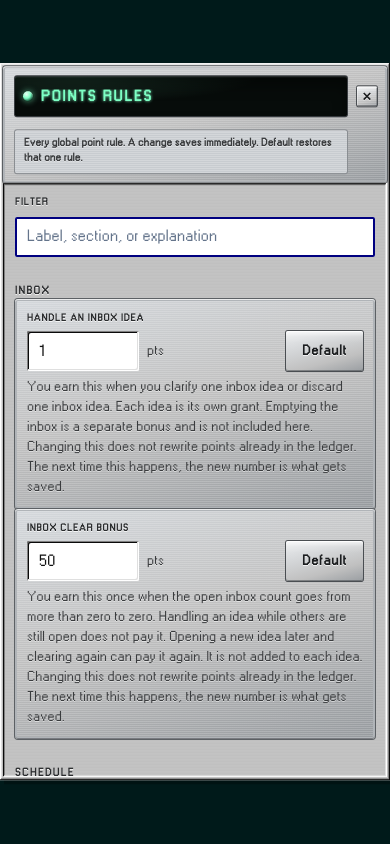
Test: Points rules dialog › groups the catalog and filters by section and explanation
Expected: the heading "Points rules" is shown, [41,89,153,104]
Expected: the heading "Inbox" is shown, [15,286,50,296]
In the field labelled "Filter": point(195, 237) [15,217,375,257], type "whitespace"
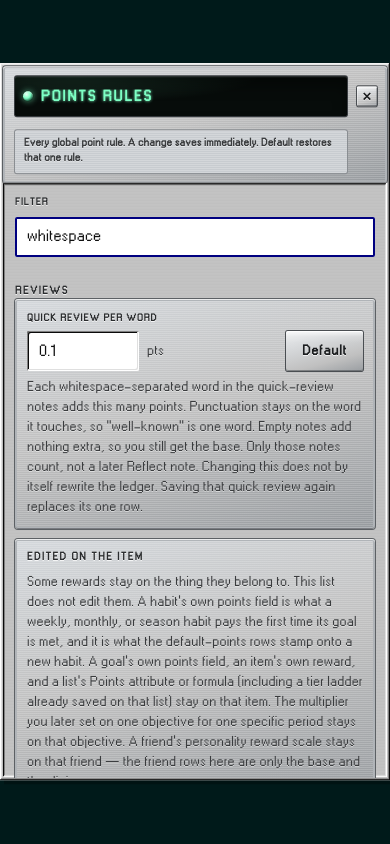
Expected: the heading "Reviews" is shown, [15,286,69,296]
Expected: the number field labelled "Quick review per word" is shown, [27,332,139,372]
Expected: the heading "Inbox" is gone
Replace the text in the field labelled "Filter" with "Penalties": point(195, 237) [15,217,375,257]
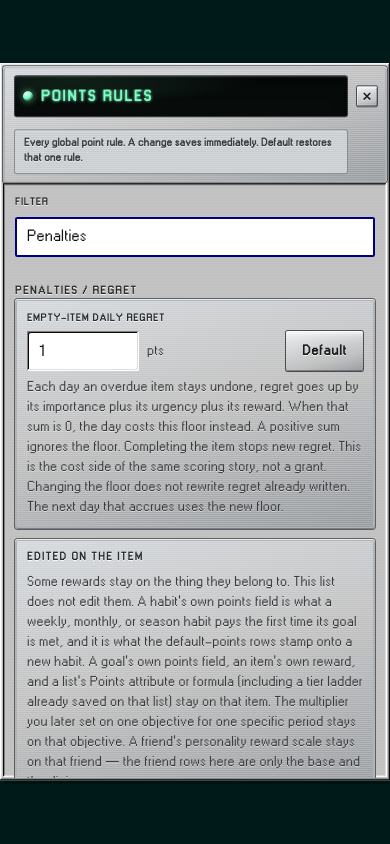
Expected: the number field labelled "Empty-item daily regret" is shown, [27,332,139,372]
